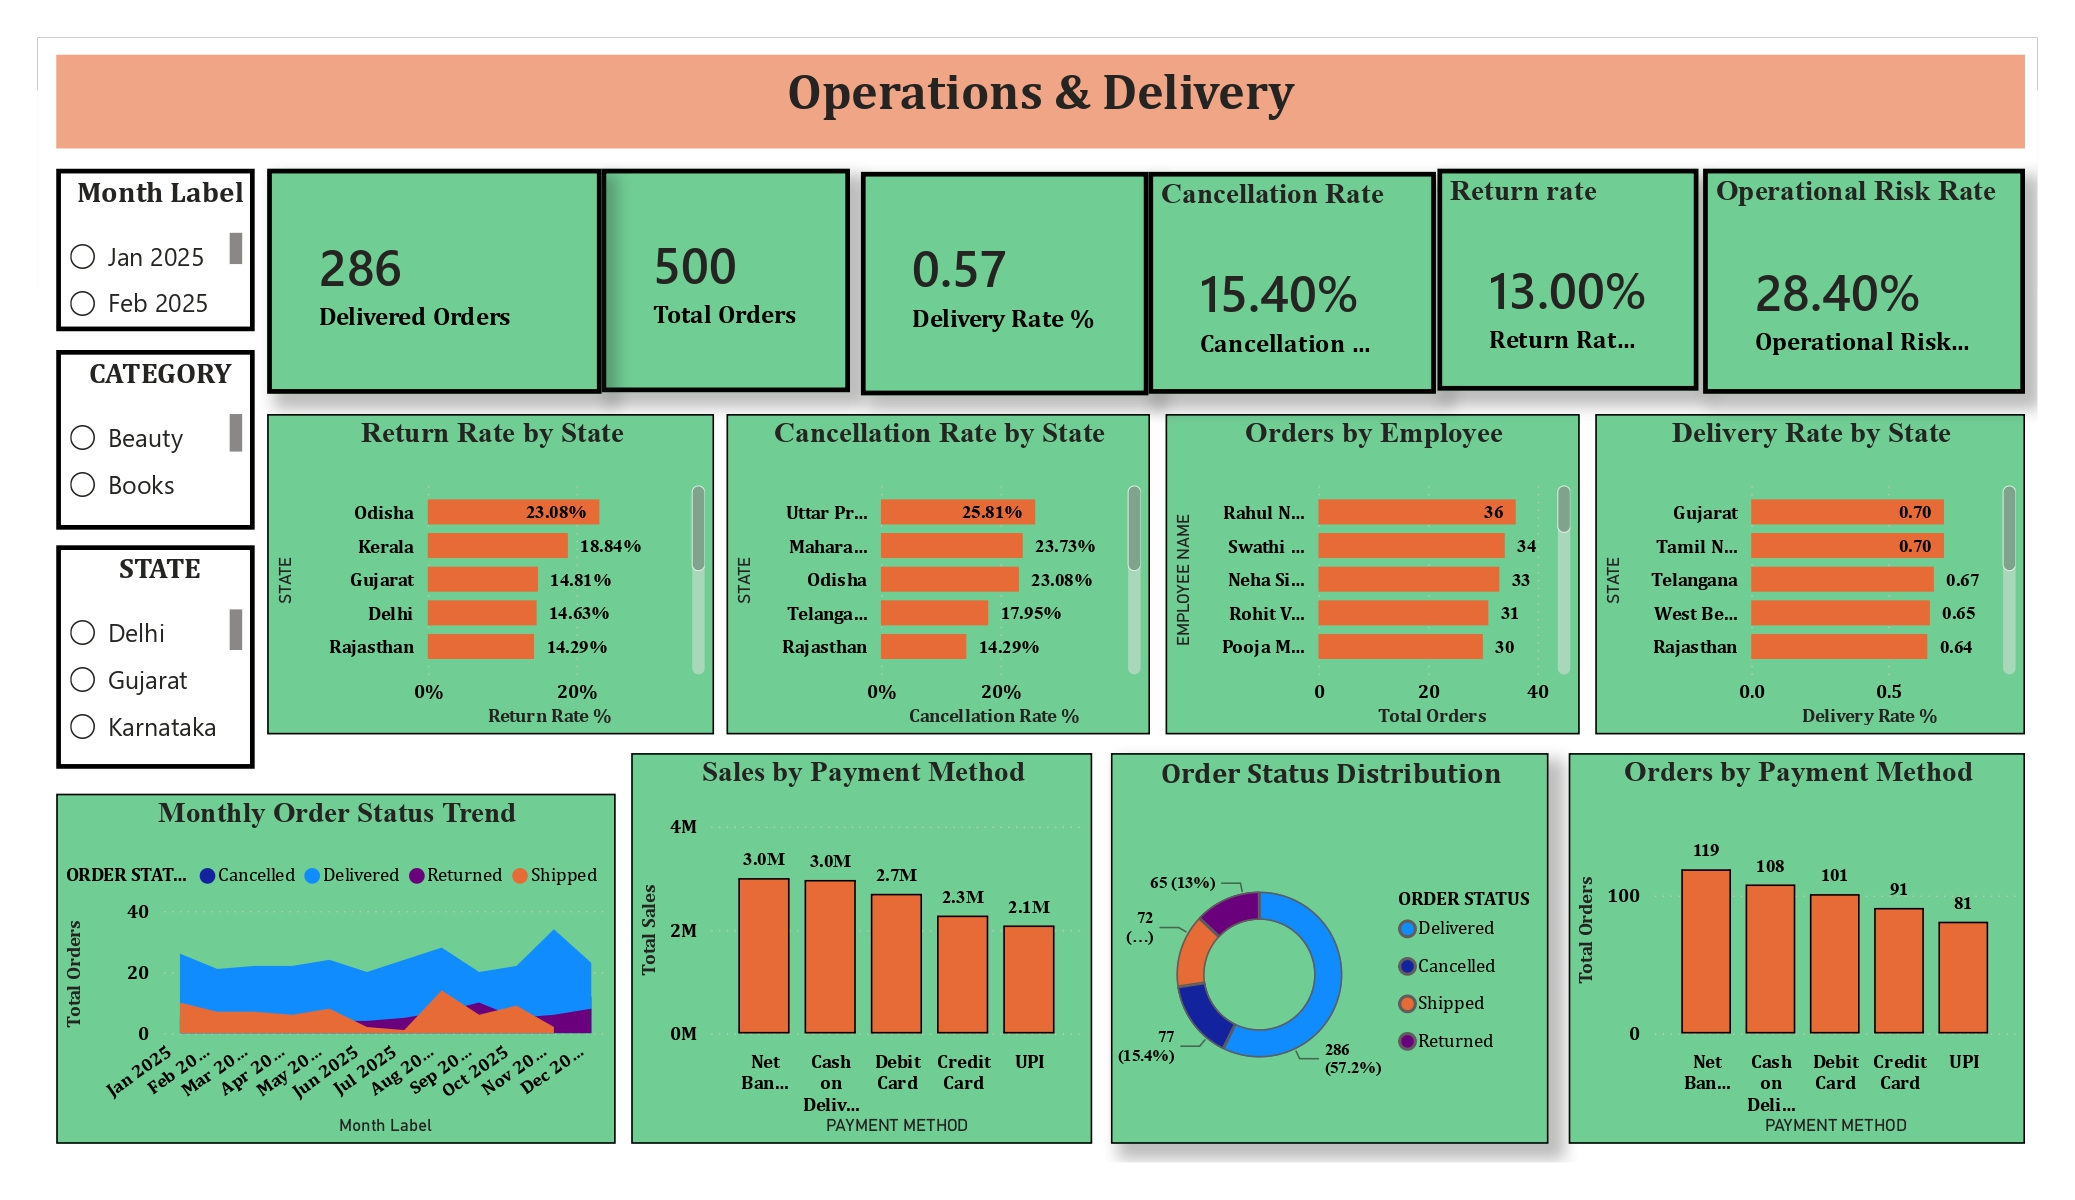

Layout of this report page (visuals, bound fields, positions):
{"tool":"powerbi","page":{"name":"Operations & Delivery","canvas":[1280,720],"ordinal":4},"visuals":[{"type":"textbox","box":[12,11,1260,60],"z":0},{"type":"listSlicer","title":"Month Label","fields":{"Values":["orders.Month Label"]},"box":[12,84,127,104],"z":1000},{"type":"listSlicer","fields":{"Values":["products.CATEGORY"]},"box":[12,200,127,115],"z":2000},{"type":"listSlicer","fields":{"Values":["customers.STATE"]},"box":[12,325,127,143],"z":3000},{"type":"cardVisual","fields":{"Data":["customers.Total Orders"]},"box":[360.9,83.7,159,143],"z":4000},{"type":"cardVisual","fields":{"Data":["customers.Delivered Orders"]},"box":[146.8,83.7,214.1,144.1],"z":5000},{"type":"cardVisual","fields":{"Data":["customers.Delivery Rate %"]},"box":[526.9,86.4,184,143],"z":6000},{"type":"donutChart","title":"Order Status Distribution","fields":{"Category":["orders.ORDER STATUS"],"Y":["customers.Total Orders"]},"box":[687.5,458.3,279.9,249.7],"z":7000},{"type":"clusteredColumnChart","title":"Sales by Payment Method","fields":{"Category":["orders.PAYMENT METHOD"],"Y":["customers.Total Sales"]},"box":[380.1,458.3,295,249.7],"z":8000},{"type":"clusteredColumnChart","title":"Orders by Payment Method","fields":{"Category":["orders.PAYMENT METHOD"],"Y":["customers.Total Orders"]},"box":[979.8,458.3,292.3,249.7],"z":9000},{"type":"lineChart","title":"Monthly Order Status Trend","fields":{"Category":["orders.Month Label"],"Y":["customers.Total Orders"],"Series":["orders.ORDER STATUS"]},"box":[12,484,358,224],"z":10000},{"type":"clusteredBarChart","title":"Orders by Employee","fields":{"Category":["employees.EMPLOYEE NAME"],"Y":["customers.Total Orders"]},"box":[722,241,265,205],"z":11000},{"type":"cardVisual","title":"Cancellation Rate","fields":{"Data":["Customer Order Frequency.Cancellation Rate %"]},"box":[710.8,86.4,183.9,141.3],"z":12000},{"type":"cardVisual","title":"Return rate","fields":{"Data":["Customer Order Frequency.Return Rate %"]},"box":[896.1,83.7,167,142],"z":13000},{"type":"clusteredBarChart","title":"Delivery Rate by State","fields":{"Category":["customers.STATE"],"Y":["customers.Delivery Rate %"]},"box":[997,241,275,205],"z":14000},{"type":"clusteredBarChart","title":"Cancellation Rate by State","fields":{"Category":["customers.STATE"],"Y":["Customer Order Frequency.Cancellation Rate %"]},"box":[441,241,271,205],"z":15000},{"type":"clusteredBarChart","title":"Return Rate by State","fields":{"Category":["customers.STATE"],"Y":["Customer Order Frequency.Return Rate %"]},"box":[147,241,286,205],"z":16000},{"type":"cardVisual","title":"Operational Risk Rate","fields":{"Data":["Customer Order Frequency.Operational Risk Rate %"]},"box":[1066.2,83.7,205.8,144.1],"z":17000}]}

Visuals, with their boxes in screenshot pixels (x1, y1, x2, y2):
textbox: detection(56, 55, 1999, 147)
"Month Label" listSlicer: detection(56, 167, 252, 328)
listSlicer - products.CATEGORY: detection(56, 346, 252, 524)
listSlicer - customers.STATE: detection(56, 539, 252, 759)
cardVisual - customers.Total Orders: detection(594, 167, 840, 387)
cardVisual - customers.Delivered Orders: detection(264, 167, 594, 389)
cardVisual - customers.Delivery Rate %: detection(850, 171, 1134, 392)
"Order Status Distribution" donutChart: detection(1098, 745, 1530, 1130)
"Sales by Payment Method" clusteredColumnChart: detection(624, 745, 1079, 1130)
"Orders by Payment Method" clusteredColumnChart: detection(1549, 745, 1999, 1130)
"Monthly Order Status Trend" lineChart: detection(56, 784, 608, 1130)
"Orders by Employee" clusteredBarChart: detection(1151, 409, 1560, 726)
"Cancellation Rate" cardVisual: detection(1134, 171, 1417, 389)
"Return rate" cardVisual: detection(1420, 167, 1677, 386)
"Delivery Rate by State" clusteredBarChart: detection(1575, 409, 1999, 726)
"Cancellation Rate by State" clusteredBarChart: detection(718, 409, 1136, 726)
"Return Rate by State" clusteredBarChart: detection(265, 409, 706, 726)
"Operational Risk Rate" cardVisual: detection(1682, 167, 1999, 389)
